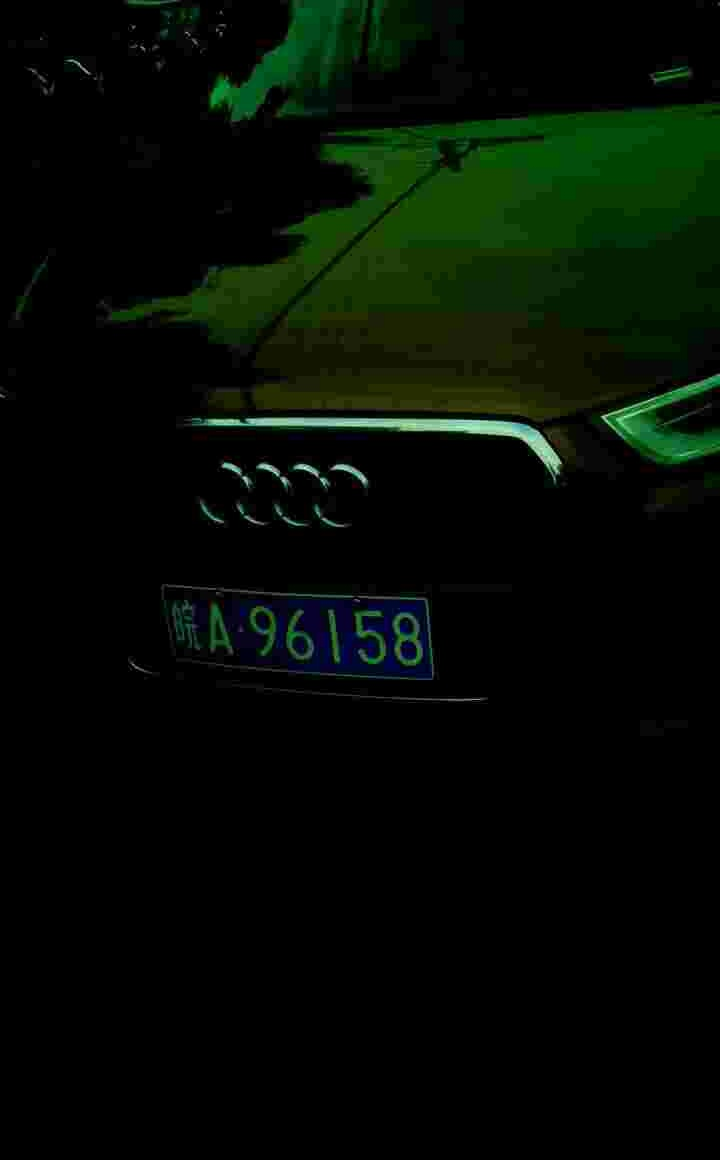license_plate: (163, 587, 427, 680)
